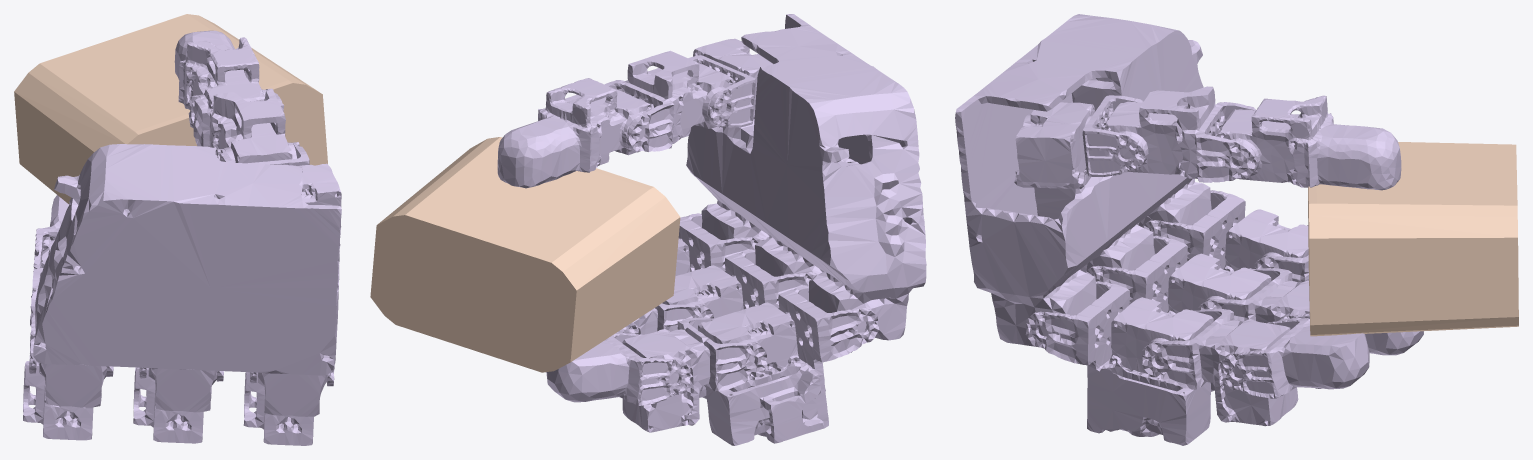
File: 974354fdc8c44d-closed.glb
3 views of the same model, side by side, from view 1: azimuth 30°, elevation 25°; view 2: azimuth 150°, elevation 25°; view 3: azimuth 270°, elevation 25° (orthographic). The views are drawn at different scales.
Parts seen in each view (by area): view 1: LEAP_hand, world; view 2: LEAP_hand, world; view 3: LEAP_hand, world.
Part boxes in pixels (box(x1,y1,x2,y2)): LEAP_hand: box(23, 30, 341, 445); world: box(14, 14, 327, 204); LEAP_hand: box(497, 14, 926, 445); world: box(370, 137, 680, 372); LEAP_hand: box(955, 14, 1423, 445); world: box(1308, 142, 1518, 336).
Bounding box in the file's own units: 0.1823 × 0.1457 × 0.225.
